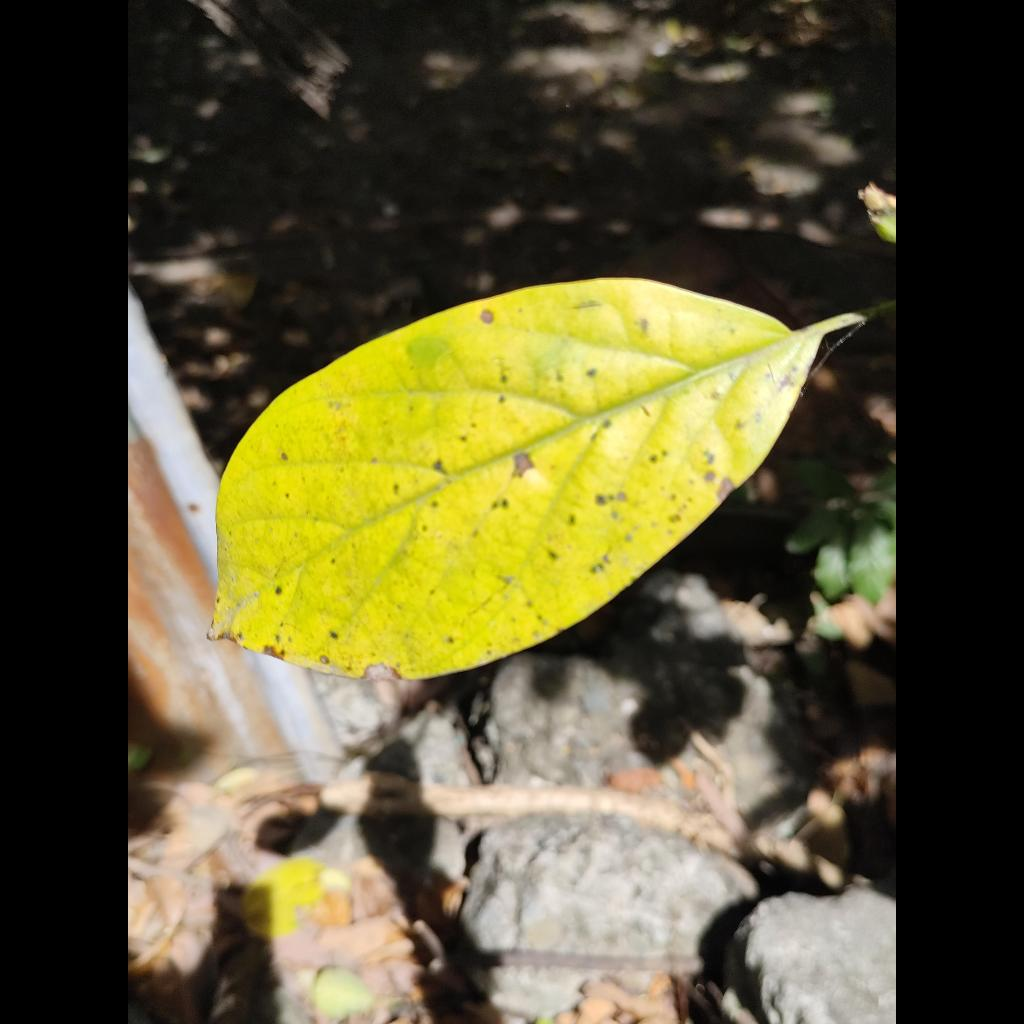deficiencia_nutricional: (209, 278, 868, 679)
